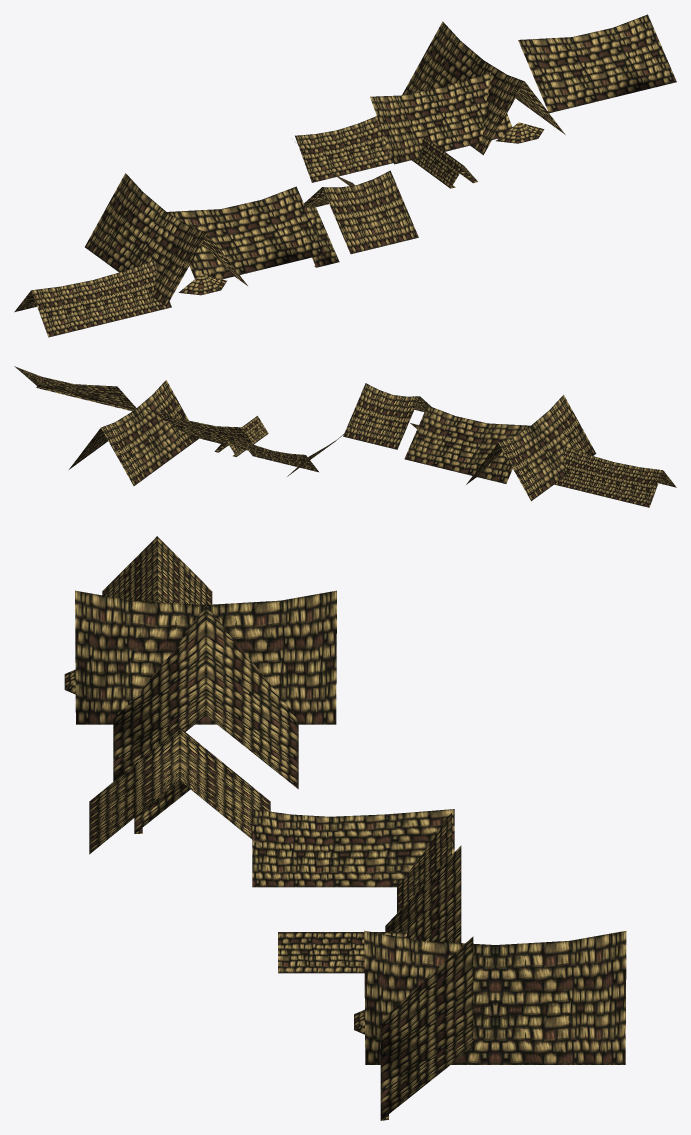
File: LAKETOWN_EXTERIOR_PS_LT_ROOFTOPS2824.fbx
The picture shows the model from 3 angles, top to bottom: view 1: azimuth 30°, elevation 25°; view 2: azimuth 150°, elevation 25°; view 3: azimuth 270°, elevation 25°; orthographic projection. The views are drawn at different scales.
Visible parts, largest first — view 1: LAKETOWN_EXTERIOR_PS_LT_ROOFTOPS2824; view 2: LAKETOWN_EXTERIOR_PS_LT_ROOFTOPS2824; view 3: LAKETOWN_EXTERIOR_PS_LT_ROOFTOPS2824.
Boxes of the visible parts, box(x1,y1,x2,y2) form: LAKETOWN_EXTERIOR_PS_LT_ROOFTOPS2824: box(14, 14, 676, 337); LAKETOWN_EXTERIOR_PS_LT_ROOFTOPS2824: box(14, 366, 676, 507); LAKETOWN_EXTERIOR_PS_LT_ROOFTOPS2824: box(64, 536, 626, 1120).
Size of the model in its own units: 516246 by 54715 by 220292.
1 material, 1 textured.
